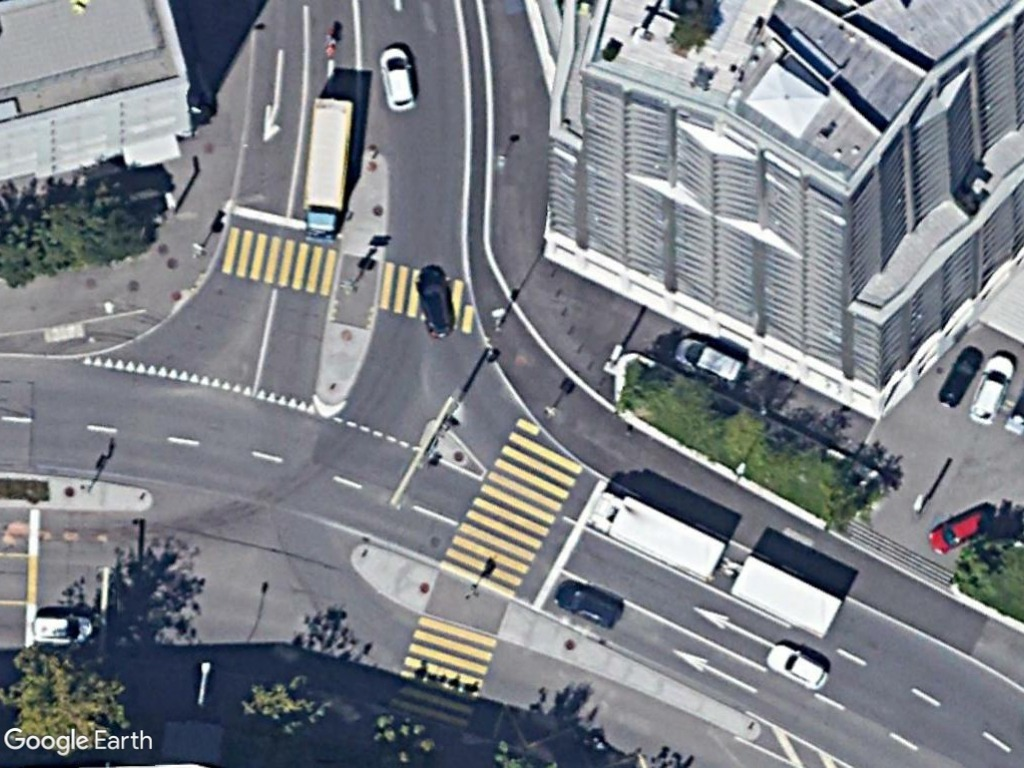car: (668, 332, 746, 389), (764, 640, 834, 697), (964, 350, 1015, 428), (376, 43, 417, 112)
longvehicle: (727, 552, 846, 637)
truck: (590, 488, 731, 580), (299, 91, 357, 247)
